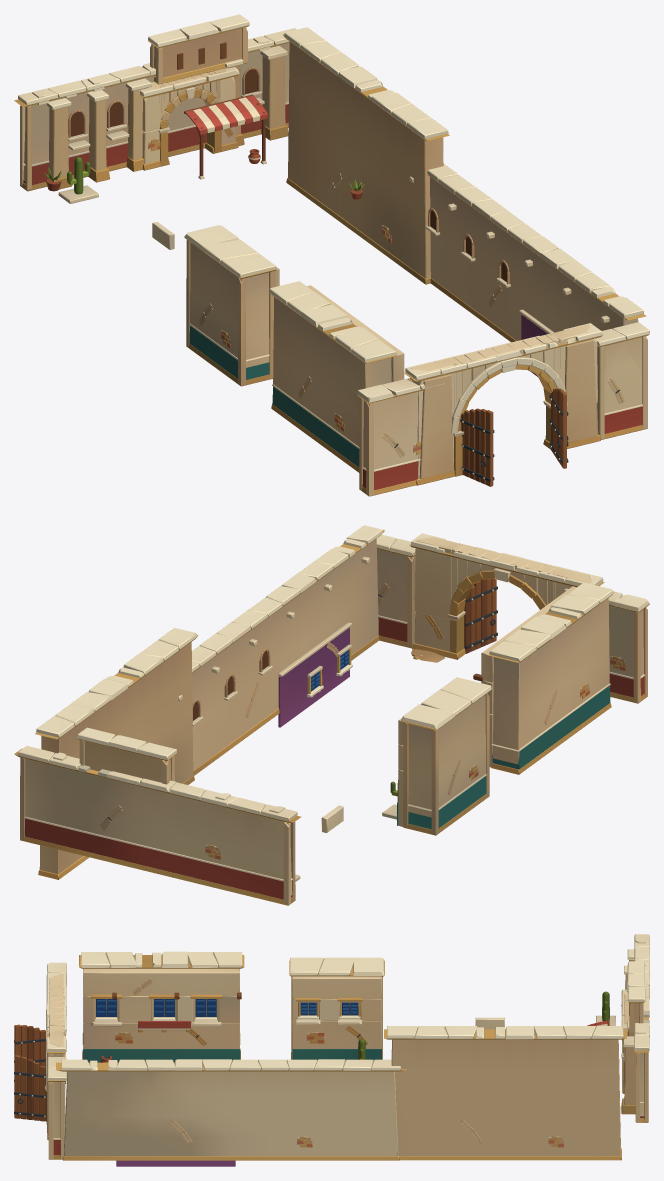
The model's file is a_long.glb.
3 renders of one model, top to bottom at view 1: azimuth 30°, elevation 25°; view 2: azimuth 150°, elevation 25°; view 3: azimuth 270°, elevation 25°, orthographic. The views are drawn at different scales.
Parts seen in each view (by area): view 1: a_long; view 2: a_long; view 3: a_long.
Part boxes in pixels (x1,y1,x2,y2): a_long: (14, 14, 649, 496); a_long: (14, 525, 649, 905); a_long: (14, 934, 649, 1166).
Size of the model in its own units: 15.79 by 9.42 by 35.72.
